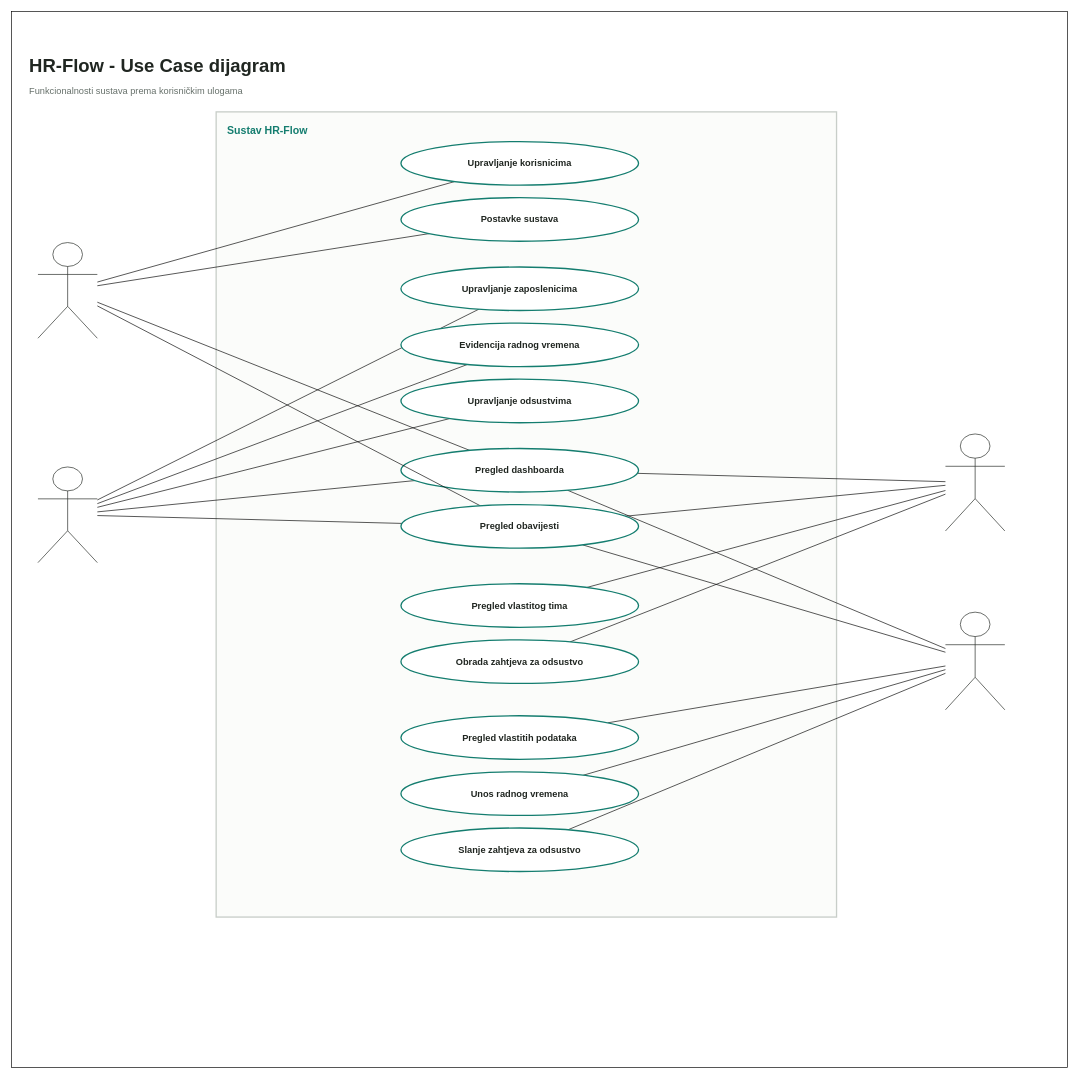
Image size: 1079x1079. Some labels were removed from this diagram. Each missing label, with the centre of its shape:
"Administrator" goes at (67,290).
"HR djelatnik" goes at (67,514).
"Manager" goes at (975,482).
"Zaposlenik" goes at (975,660).
